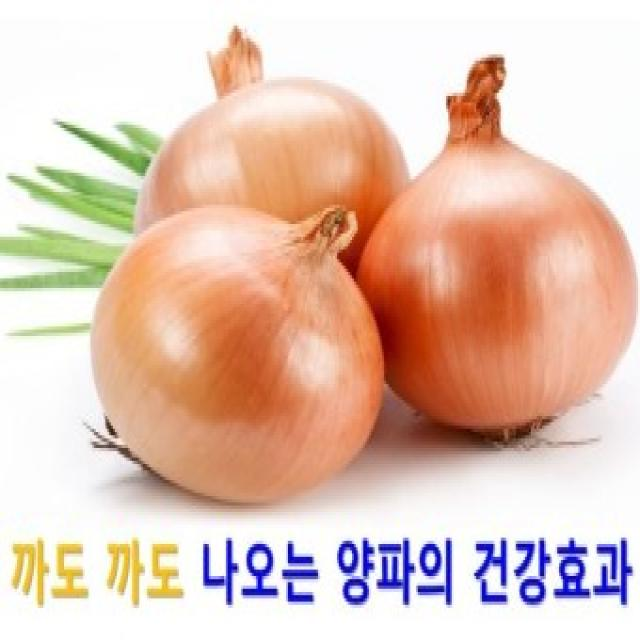onion: (374, 79, 637, 489), (71, 203, 377, 533), (134, 29, 409, 268)
